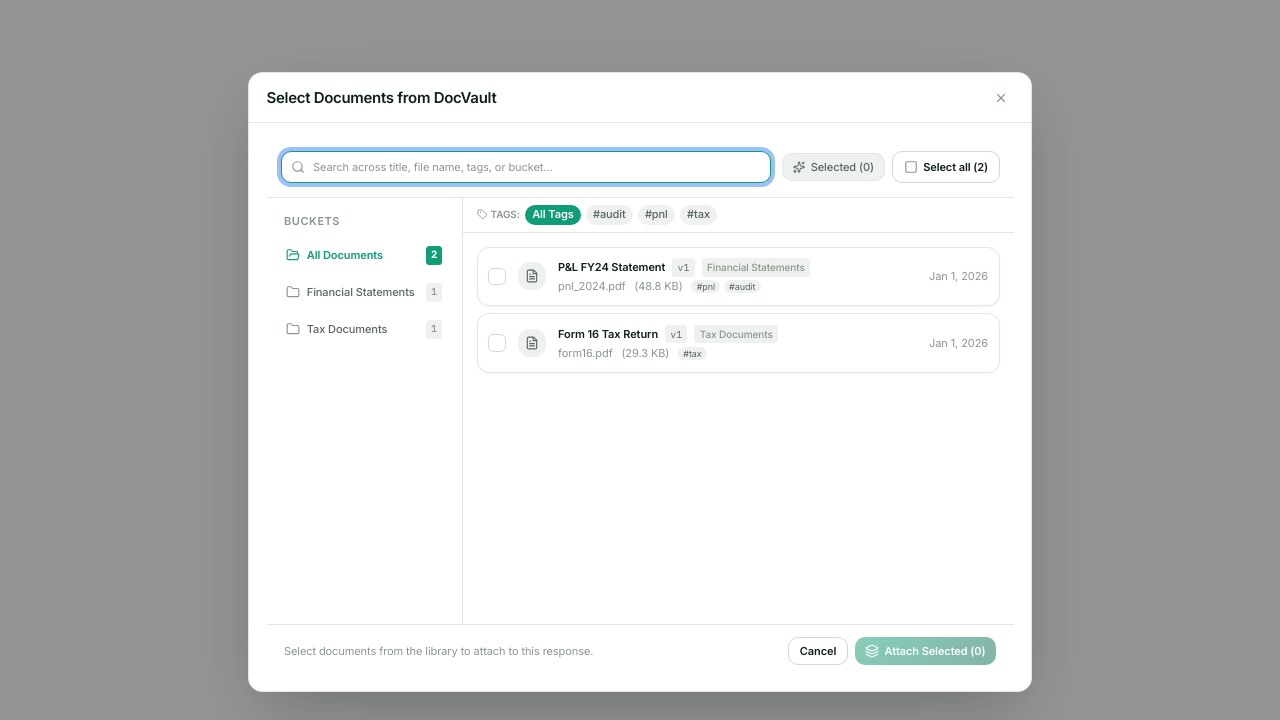
Test case: DocVaultPickerModal › filters documents when clicking a bucket in the rail
Expected: the text "P&L FY24 Statement" is shown, [558, 259, 665, 275]
Click the button "Tax Documents 1" at [364, 329], box [277, 312, 451, 346]
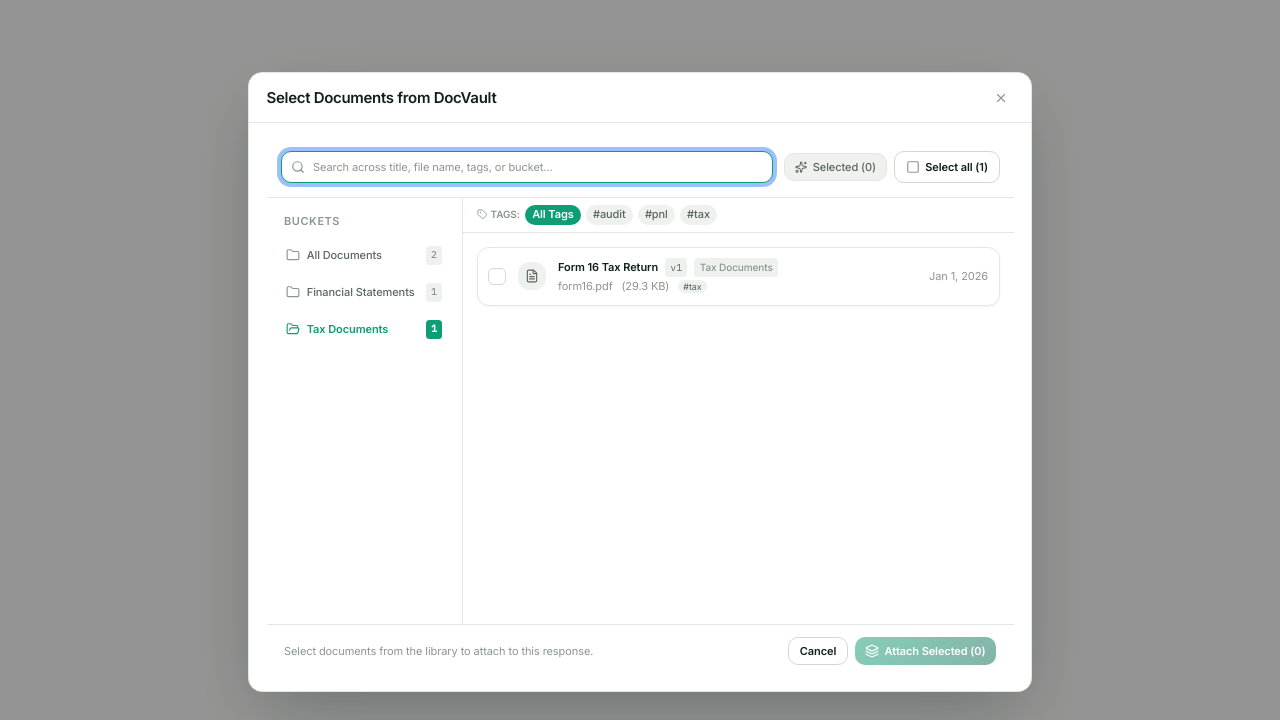
Expected: the text "Form 16 Tax Return" is shown, [558, 259, 658, 275]
Expected: the text "P&L FY24 Statement" is gone
